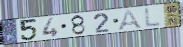2: (91, 11, 112, 35)
4: (41, 17, 60, 38)
5: (18, 17, 40, 41)
8: (70, 14, 87, 36)
A: (118, 9, 145, 31)
L: (144, 6, 163, 29)
